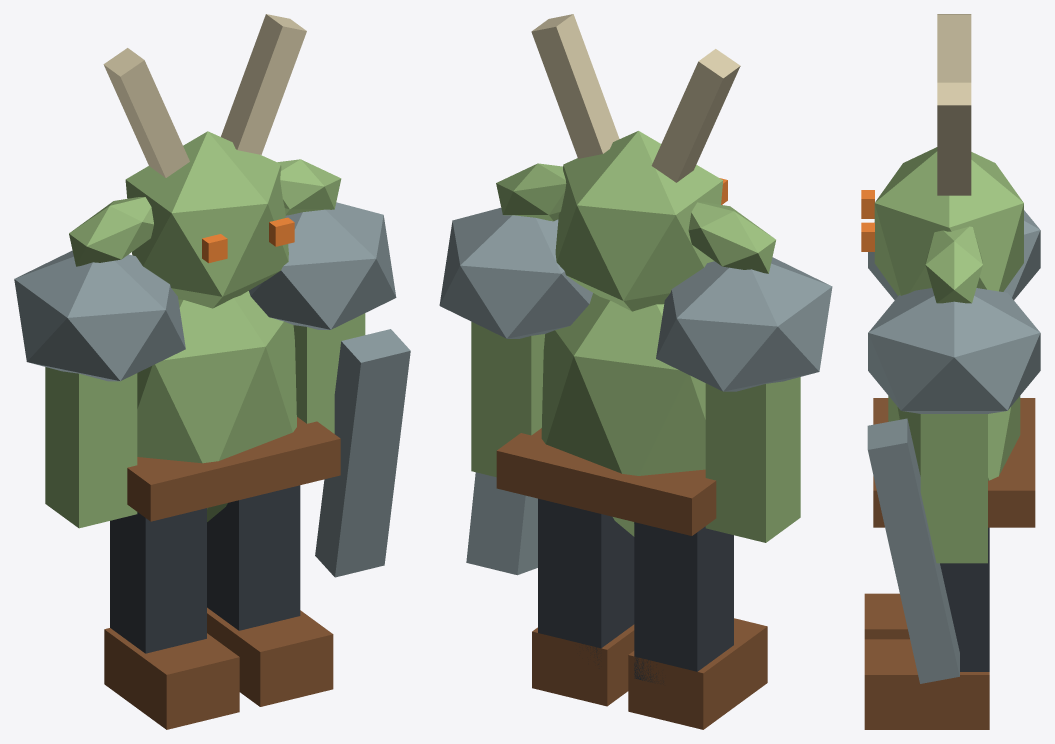
Rendered from elite_reaver.fbx.
3 views of the same model, side by side, from view 1: azimuth 30°, elevation 25°; view 2: azimuth 150°, elevation 25°; view 3: azimuth 270°, elevation 25° (orthographic). The views are drawn at different scales.
Parts seen in each view (by area): view 1: Torso.007, Head.007, Shoulder.004, Blade.003, ArmLMesh.007, Shoulder.005, LegLMesh.007, LegRMesh.007, Belt.007, Boot.014, Boot.015, Horn.005 (+6 smaller); view 2: Torso.007, Head.007, Shoulder.004, Shoulder.005, ArmLMesh.007, LegLMesh.007, LegRMesh.007, Belt.007, Boot.014, ArmRMesh.007, Horn.005, Boot.015 (+4 smaller); view 3: Shoulder.005, Head.007, Blade.003, ArmRMesh.007, Boot.015, Belt.007, LegRMesh.007, Horn.005, Ear.015, Torso.007, Horn.004, Boot.014 (+3 smaller).
Boxes of the visible parts, bbox=[...] form: Torso.007: bbox=[137, 291, 296, 521]; Head.007: bbox=[125, 131, 288, 308]; Shoulder.004: bbox=[14, 250, 185, 381]; Blade.003: bbox=[315, 329, 410, 577]; ArmLMesh.007: bbox=[45, 367, 137, 528]; Shoulder.005: bbox=[249, 202, 396, 329]; LegLMesh.007: bbox=[110, 508, 206, 653]; LegRMesh.007: bbox=[207, 485, 300, 630]; Belt.007: bbox=[127, 417, 340, 521]; Boot.014: bbox=[104, 628, 239, 729]; Boot.015: bbox=[207, 607, 333, 706]; Horn.005: bbox=[221, 14, 306, 154]; Torso.007: bbox=[541, 293, 705, 536]; Head.007: bbox=[555, 131, 723, 311]; Shoulder.004: bbox=[656, 257, 832, 391]; Shoulder.005: bbox=[439, 207, 592, 338]; ArmLMesh.007: bbox=[705, 377, 800, 542]; LegLMesh.007: bbox=[634, 522, 733, 684]; LegRMesh.007: bbox=[538, 498, 634, 668]; Belt.007: bbox=[496, 428, 716, 535]; Boot.014: bbox=[628, 618, 767, 729]; ArmRMesh.007: bbox=[471, 321, 544, 477]; Horn.005: bbox=[531, 14, 619, 158]; Boot.015: bbox=[532, 624, 634, 706]; Shoulder.005: bbox=[868, 288, 1040, 413]; Head.007: bbox=[874, 147, 1023, 295]; Blade.003: bbox=[867, 418, 959, 683]; ArmRMesh.007: bbox=[920, 414, 987, 563]; Boot.015: bbox=[864, 639, 989, 729]; Belt.007: bbox=[873, 398, 1035, 527]; LegRMesh.007: bbox=[940, 527, 989, 671]; Horn.005: bbox=[937, 82, 971, 195]; Ear.015: bbox=[925, 226, 982, 303]; Torso.007: bbox=[888, 396, 1020, 480]; Horn.004: bbox=[937, 14, 971, 82]; Boot.014: bbox=[864, 593, 909, 639].
Size of the model in its own units: 122 by 209 by 53.02.
